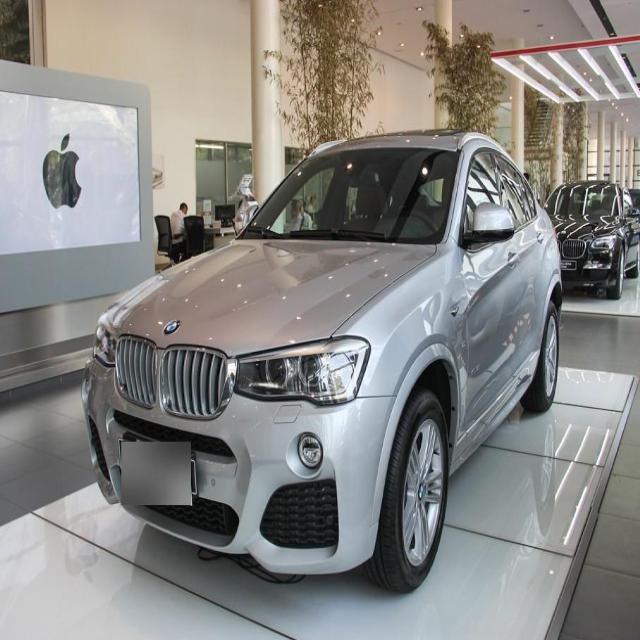front_bumper: (80, 354, 396, 576)
front_glass: (235, 148, 462, 244)
front_left_side_door: (455, 141, 518, 449)
front_left_side_light: (232, 334, 372, 407)
front_left_side_mirror: (458, 202, 516, 246)
front_right_side_light: (92, 301, 130, 370)
front_right_side_mirror: (238, 200, 258, 240)
wheel: (365, 389, 451, 589), (517, 301, 560, 414)
